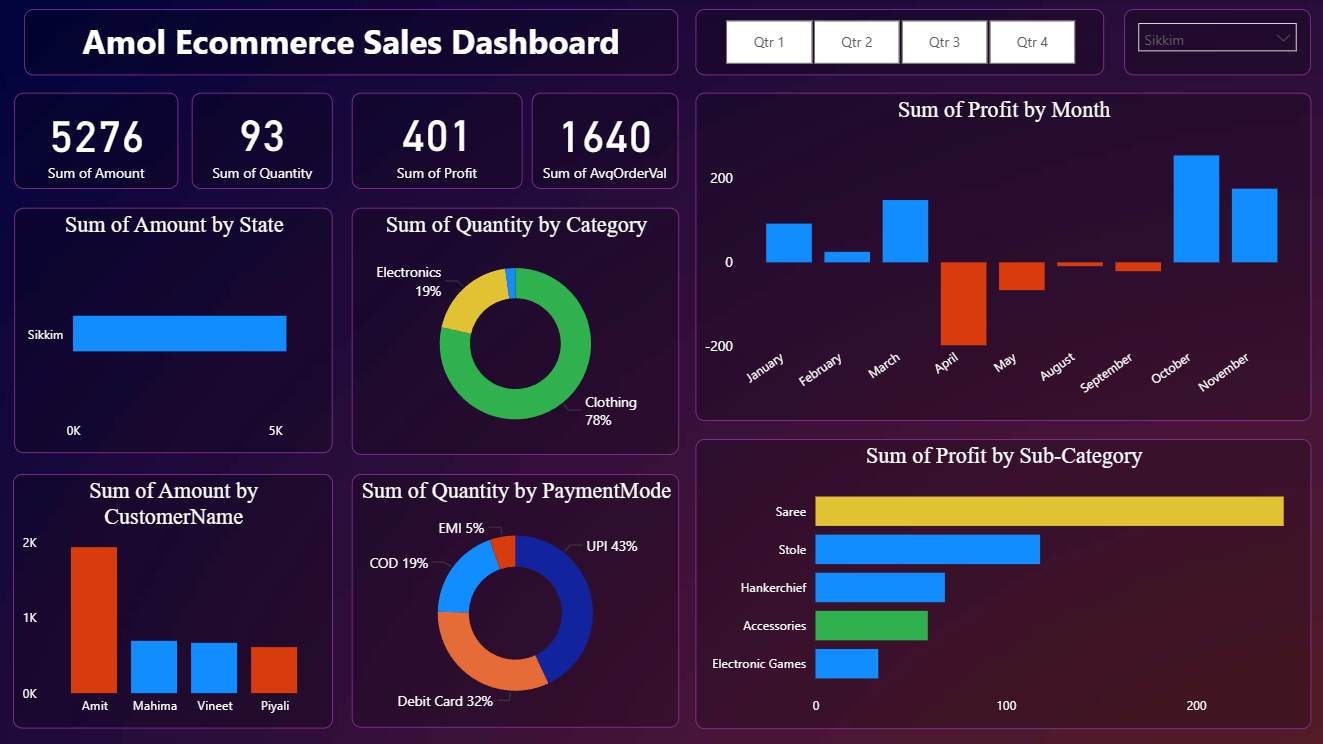

Layout of this report page (visuals, bound fields, positions):
{"tool":"powerbi","page":{"name":"Page 1","canvas":[1280,720],"ordinal":0},"visuals":[{"type":"textbox","box":[25.7,10,631.4,64.3],"z":0},{"type":"columnChart","fields":{"Category":["Orders.Order Date.Variation.Date Hierarchy.Month"],"Y":["Sum(Details.Profit)"]},"box":[672.9,90,594.3,317.1],"z":1000},{"type":"barChart","fields":{"Category":["Details.Sub-Category"],"Y":["Sum(Details.Profit)"]},"box":[672.9,424.3,594.3,280],"z":2001},{"type":"donutChart","fields":{"Category":["Details.Category"],"Y":["Sum(Details.Quantity)"]},"box":[341.2,201.2,316.2,238.8],"z":2002},{"type":"donutChart","fields":{"Y":["Sum(Details.Quantity)"],"Category":["Details.PaymentMode"]},"box":[341.2,458.8,316.2,245],"z":2003},{"type":"card","fields":{"Values":["Sum(Details.Amount)"]},"box":[15.7,90,158.6,92.9],"z":2004},{"type":"card","fields":{"Values":["Sum(Details.Quantity)"]},"box":[187.5,90,136.2,92.5],"z":2005},{"type":"card","fields":{"Values":["Sum(Details.Profit)"]},"box":[341.2,90,165,92.5],"z":2006},{"type":"card","fields":{"Values":["Sum(Details.AvgOrderVal)"]},"box":[515.7,90,141.4,92.9],"z":2007},{"type":"barChart","fields":{"Category":["Orders.State"],"Y":["Sum(Details.Amount)"]},"box":[15.7,201.4,307.1,237.1],"z":2008},{"type":"columnChart","fields":{"Category":["Orders.CustomerName"],"Y":["Sum(Details.Amount)"]},"box":[14.3,458.6,308.6,245.7],"z":2009},{"type":"slicer","fields":{"Values":["Orders.Order Date.Variation.Date Hierarchy.Quarter"]},"box":[672.9,10,394.3,64.3],"z":2010},{"type":"slicer","fields":{"Values":["Orders.State"]},"box":[1087.1,10,180,64.3],"z":2011}]}

Visuals, with their boxes in screenshot pixels (x1, y1, x2, y2), scaled from the page's 1280x720 canvas onto the 1323x744 screenshot:
textbox: bbox=[27, 10, 679, 77]
columnChart - Orders.Order Date.Variation.Date Hierarchy.Month x Sum(Details.Profit): bbox=[696, 93, 1310, 421]
barChart - Details.Sub-Category x Sum(Details.Profit): bbox=[696, 438, 1310, 728]
donutChart - Details.Category x Sum(Details.Quantity): bbox=[353, 208, 679, 455]
donutChart - Sum(Details.Quantity) x Details.PaymentMode: bbox=[353, 474, 679, 727]
card - Sum(Details.Amount): bbox=[16, 93, 180, 189]
card - Sum(Details.Quantity): bbox=[194, 93, 335, 189]
card - Sum(Details.Profit): bbox=[353, 93, 523, 189]
card - Sum(Details.AvgOrderVal): bbox=[533, 93, 679, 189]
barChart - Orders.State x Sum(Details.Amount): bbox=[16, 208, 334, 453]
columnChart - Orders.CustomerName x Sum(Details.Amount): bbox=[15, 474, 334, 728]
slicer - Orders.Order Date.Variation.Date Hierarchy.Quarter: bbox=[696, 10, 1103, 77]
slicer - Orders.State: bbox=[1124, 10, 1310, 77]
